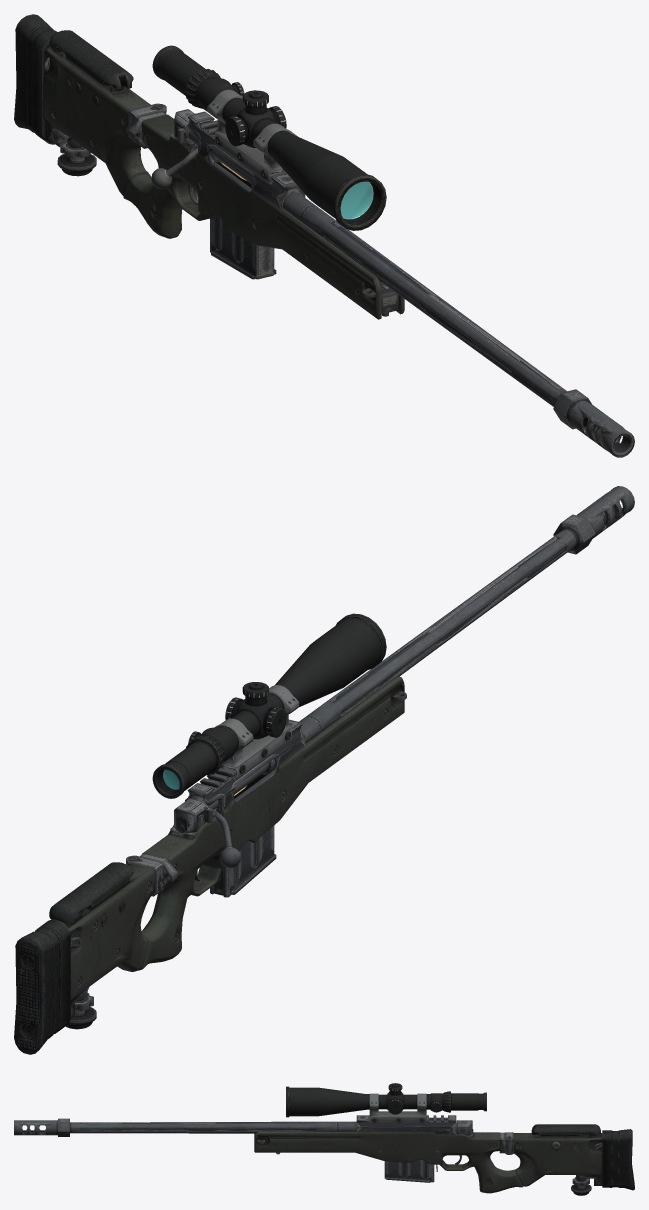
Rendered from sniper.obj.
3 views of the same model, one above another, from view 1: azimuth 30°, elevation 25°; view 2: azimuth 150°, elevation 25°; view 3: azimuth 270°, elevation 25° (orthographic). The views are drawn at different scales.
Parts seen in each view (by area): view 1: base_sniper_0; view 2: base_sniper_0; view 3: base_sniper_0.
Boxes of the visible parts, x1,y1,x2,y2 form: base_sniper_0: [14, 14, 634, 457]; base_sniper_0: [14, 486, 634, 1054]; base_sniper_0: [14, 1083, 634, 1195].
Bounding box in the file's own units: 0.1004 × 0.2888 × 1.5.
